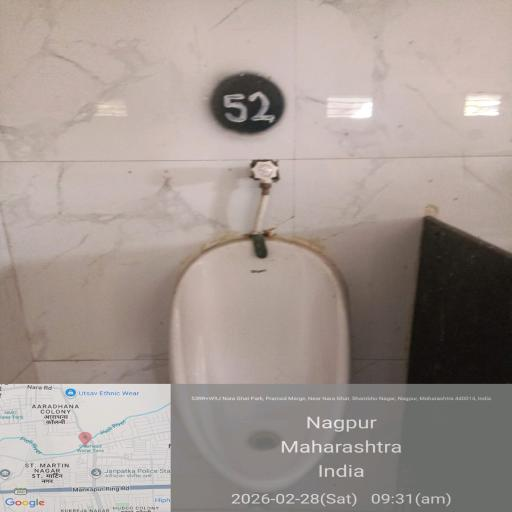clean_floor: (3, 0, 511, 200), (18, 212, 172, 370), (373, 218, 512, 368)
clean_urinal: (164, 248, 362, 381)
